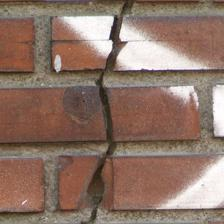Crack: (81, 6, 137, 223)
